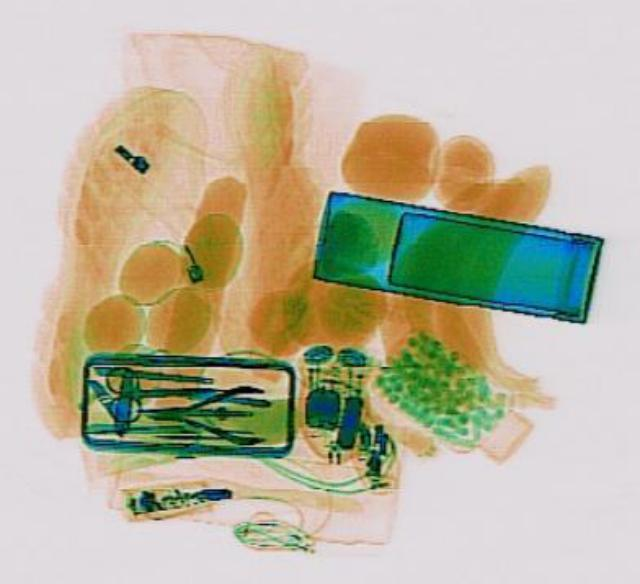Pliers: (138, 380, 266, 441)
Scissors: (102, 364, 212, 418)
